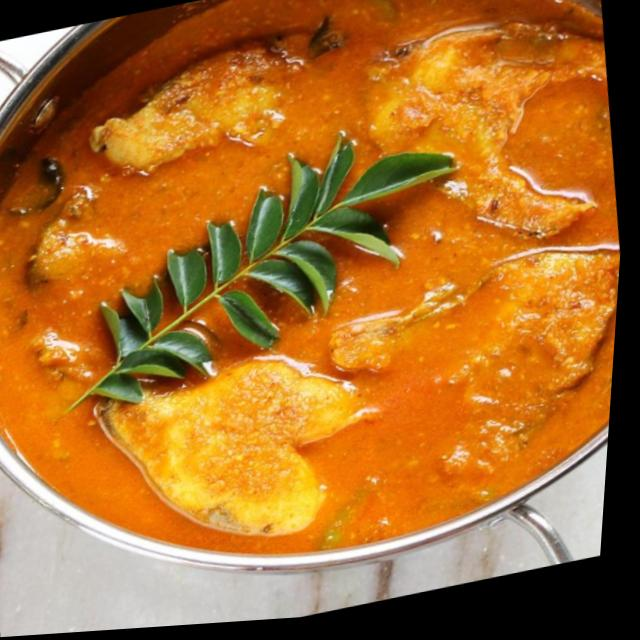FISH CURRY: (0, 0, 620, 570)
